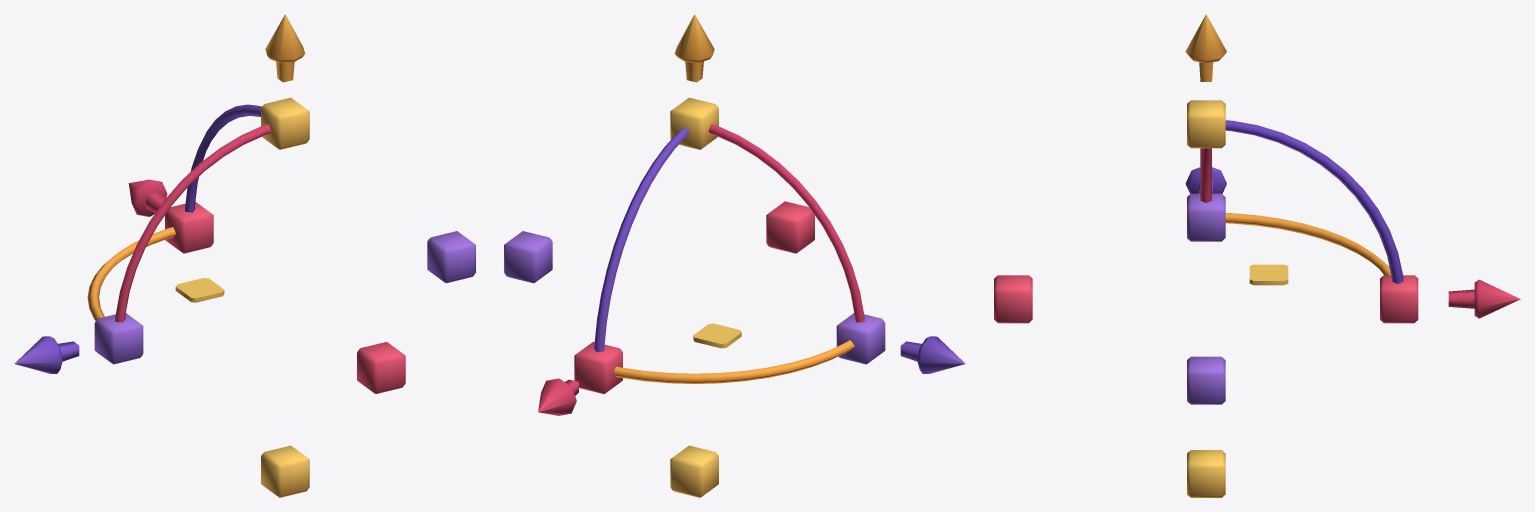
File: gizmo.glb
3 views of the same model, side by side, from view 1: azimuth 30°, elevation 25°; view 2: azimuth 150°, elevation 25°; view 3: azimuth 270°, elevation 25° (orthographic).
Parts seen in each view (by area): view 1: rotation-z, scale-x-minus, scale-y-minus, scale-z-minus, scale-x, scale-y, scale-z, position-y, position-x, rotation-x, rotation-y, position-z (+1 smaller); view 2: rotation-y, rotation-x, rotation-z, scale-x-minus, scale-y-minus, scale-z-minus, scale-z, scale-x, scale-y, position-y, position-x, position-z (+1 smaller); view 3: rotation-x, scale-z-minus, scale-x-minus, scale-y, rotation-y, scale-y-minus, scale-z, scale-x, position-z, position-y, translation-y, rotation-z (+1 smaller).
Part boxes in pixels (x1,y1,x2,y2): rotation-z: (115, 124, 271, 322); scale-x-minus: (427, 231, 475, 283); scale-y-minus: (261, 445, 309, 497); scale-z-minus: (357, 342, 405, 393); scale-x: (94, 313, 143, 364); scale-y: (261, 97, 309, 149); scale-z: (165, 202, 213, 253); position-y: (265, 14, 305, 82); position-x: (14, 336, 79, 373); rotation-x: (185, 104, 261, 212); rotation-y: (87, 227, 175, 320); position-z: (128, 179, 167, 216); rotation-y: (613, 340, 854, 383); rotation-x: (594, 127, 689, 352); rotation-z: (708, 124, 864, 322); scale-x-minus: (504, 231, 552, 283); scale-y-minus: (670, 445, 718, 497); scale-z-minus: (766, 201, 814, 253); scale-z: (574, 342, 622, 393); scale-x: (836, 313, 885, 364); scale-y: (670, 97, 718, 149); position-y: (674, 14, 714, 82); position-x: (900, 336, 965, 373); position-z: (538, 378, 578, 415); rotation-x: (1225, 120, 1403, 283); scale-z-minus: (994, 275, 1032, 323); scale-x-minus: (1187, 356, 1225, 404); scale-y: (1187, 100, 1225, 148); rotation-y: (1225, 213, 1391, 275); scale-y-minus: (1187, 450, 1225, 497); scale-z: (1380, 275, 1418, 323); scale-x: (1187, 193, 1225, 241); position-z: (1448, 279, 1520, 318); position-y: (1185, 14, 1226, 81); translation-y: (1249, 264, 1288, 285); rotation-z: (1200, 148, 1211, 202).
Bounding box in the file's own units: 1.37 × 1.37 × 1.37.
Materials: 1 (1 with a texture image).
